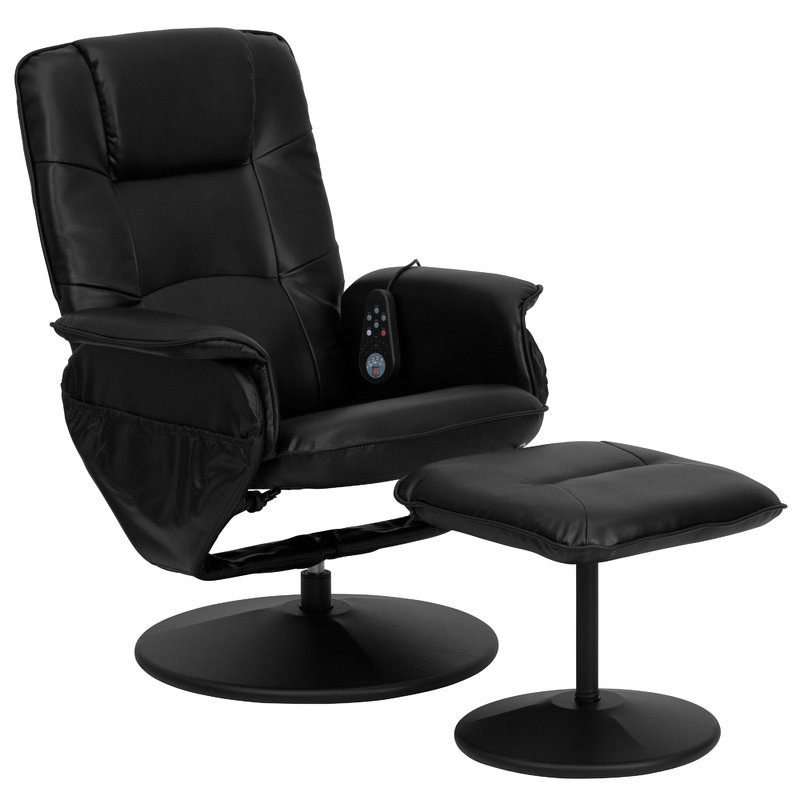chairs: (15, 22, 545, 728), (386, 440, 788, 780)
